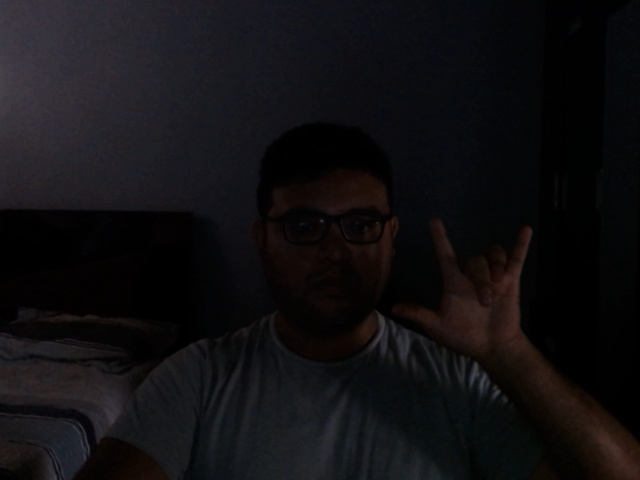I love you: (390, 211, 536, 355)
